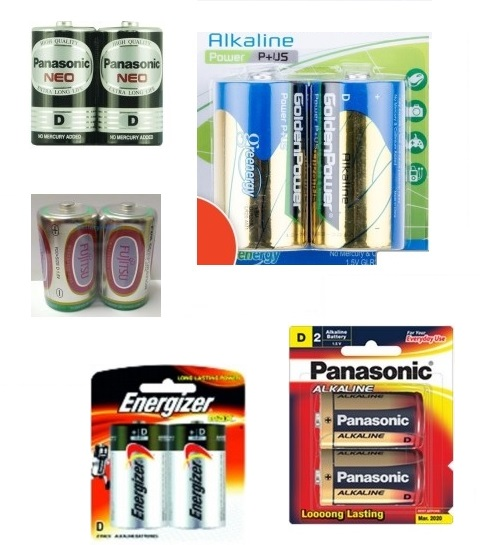Battery: (309, 73, 406, 251), (213, 75, 310, 251), (97, 19, 164, 147), (31, 21, 96, 146), (36, 199, 99, 313), (168, 419, 228, 532), (107, 420, 168, 531), (314, 447, 425, 507), (99, 200, 157, 311), (314, 392, 426, 448)
